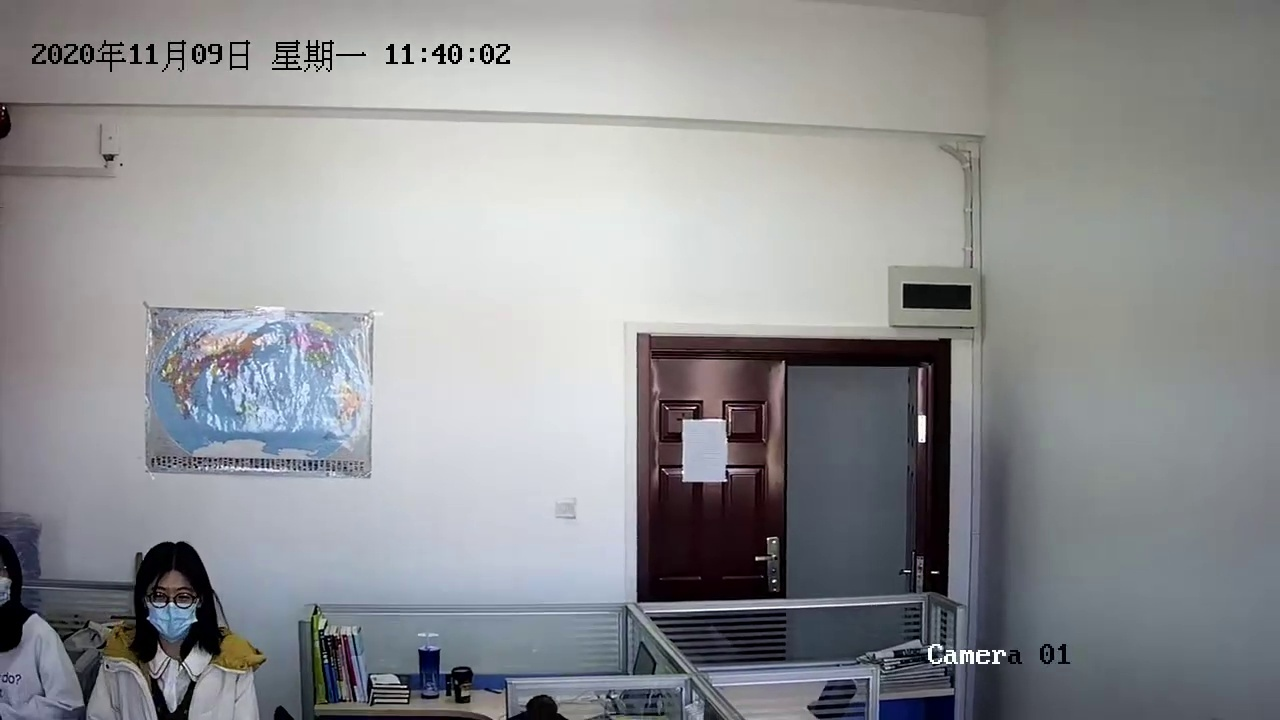mask: (137, 549, 209, 635)
